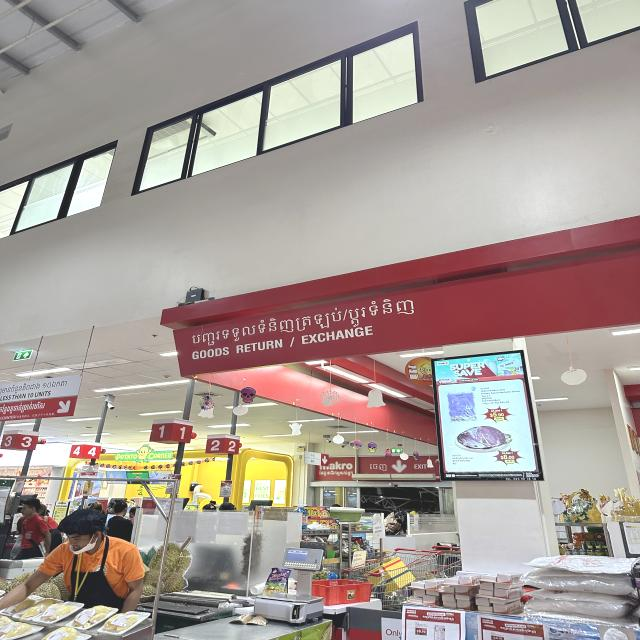Yolov11kh: (182, 291, 423, 351)
